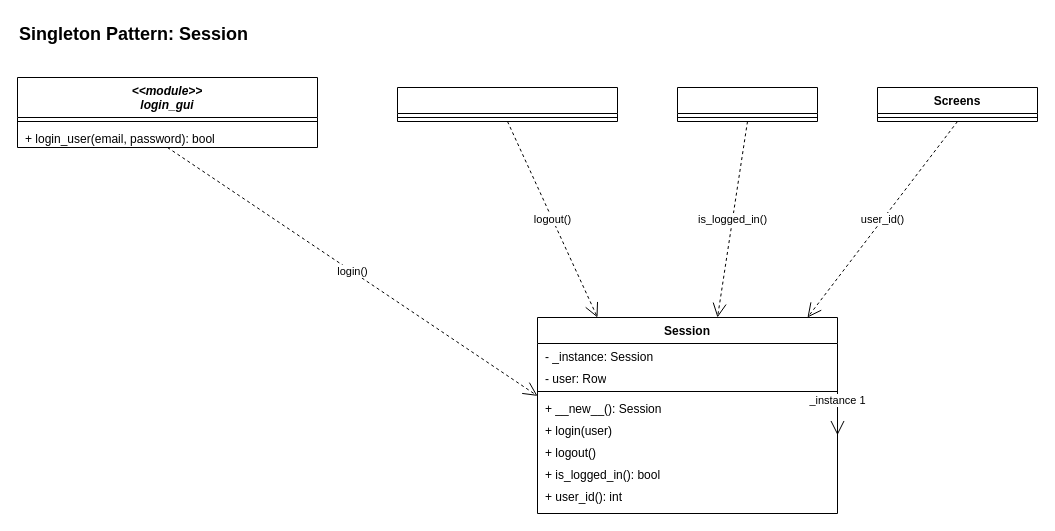
Some shapes in this 1055 by 531 pixel diagram are drawn without their labels. The shapes that lost their labels are listed below. From the top down, each one's centre as x and y in pixels, then its label:
At [507,104]: "DriveShareMediator".
At [747,104]: "App".
